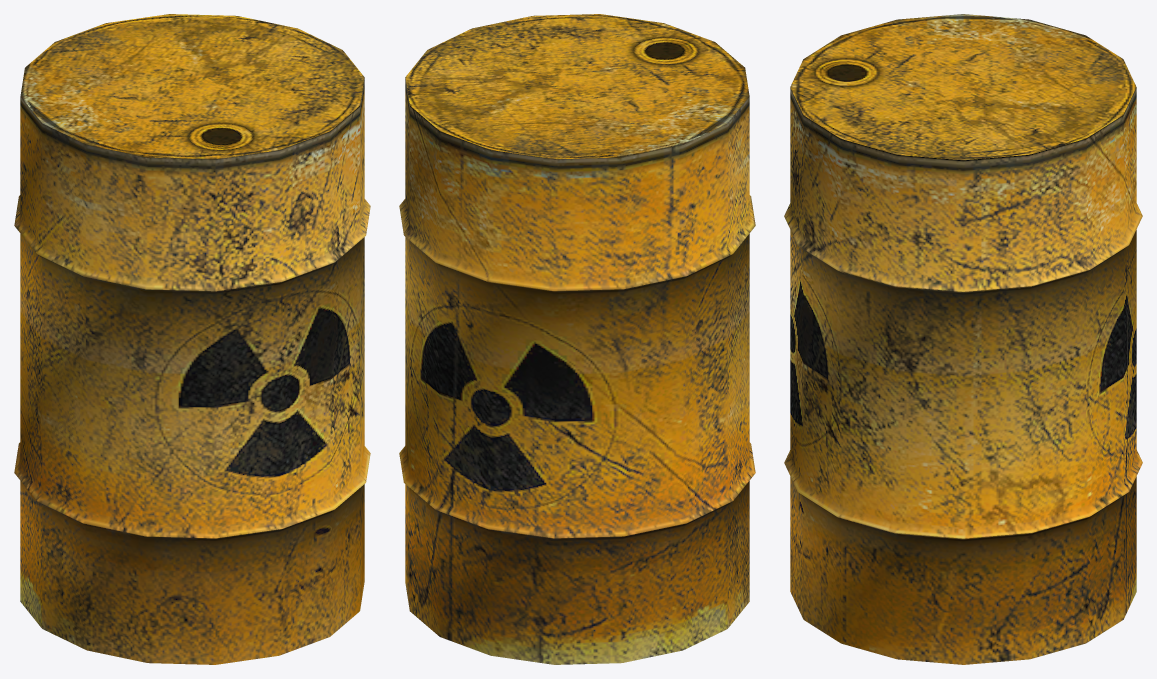
File: barrel_acid.glb
3 renders of one model, left to right at view 1: azimuth 30°, elevation 25°; view 2: azimuth 150°, elevation 25°; view 3: azimuth 270°, elevation 25°, orthographic.
Visible parts, largest first — view 1: AcidBarrel1_AcidBarrel_0; view 2: AcidBarrel1_AcidBarrel_0; view 3: AcidBarrel1_AcidBarrel_0.
Boxes of the visible parts, left/top/right/bottom form: AcidBarrel1_AcidBarrel_0: left=14, top=14, right=370, bottom=664; AcidBarrel1_AcidBarrel_0: left=399, top=14, right=755, bottom=664; AcidBarrel1_AcidBarrel_0: left=784, top=14, right=1142, bottom=664.
Bounding box in the file's own units: 0.5524 × 0.8574 × 0.5526.
Materials: 1 (1 with a texture image).
